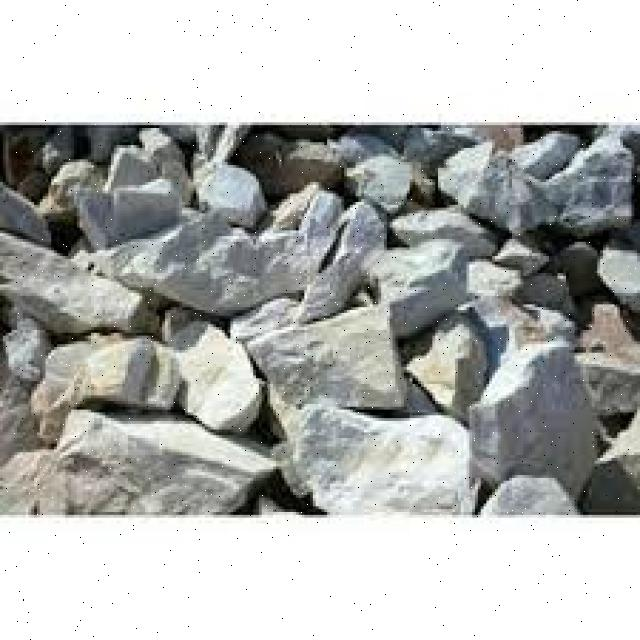Metamorphic: (3, 131, 634, 512)
